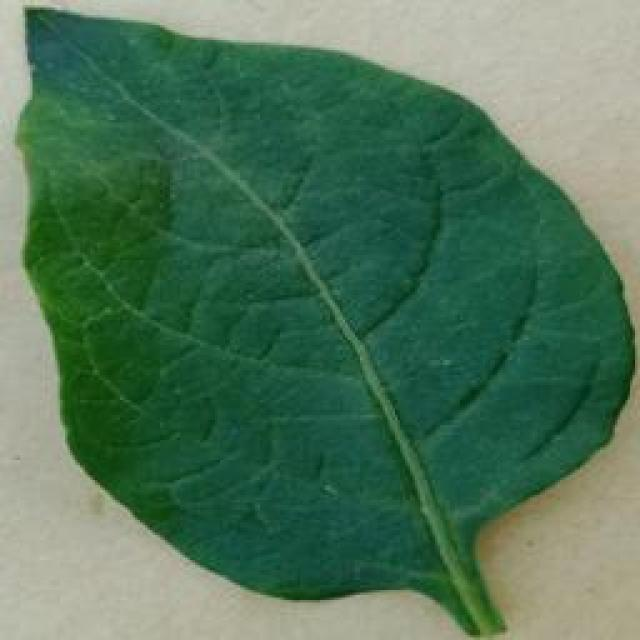Potato_Healthy: (14, 7, 623, 634)
